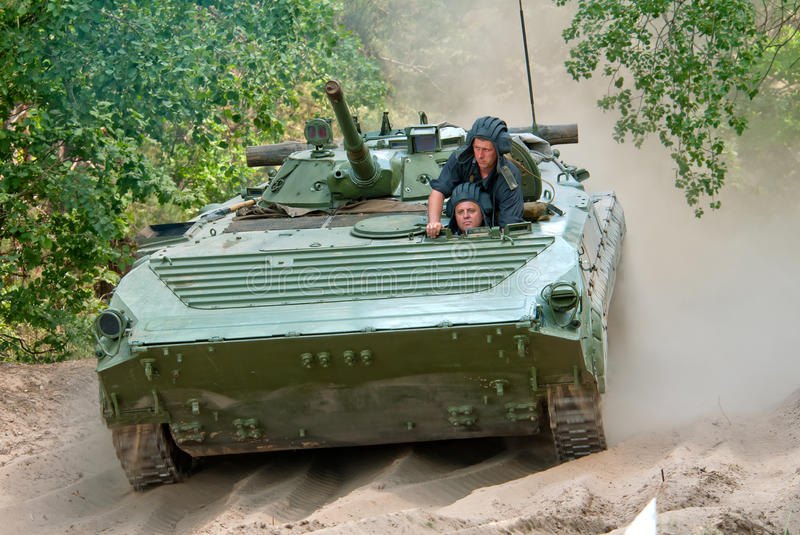bmp1: (95, 81, 603, 456)
